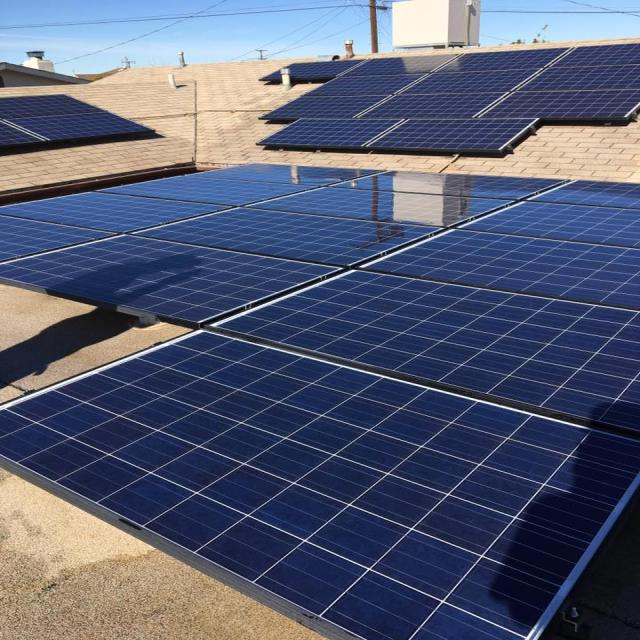clean-solar-panel: (0, 162, 640, 640), (248, 46, 640, 151)
